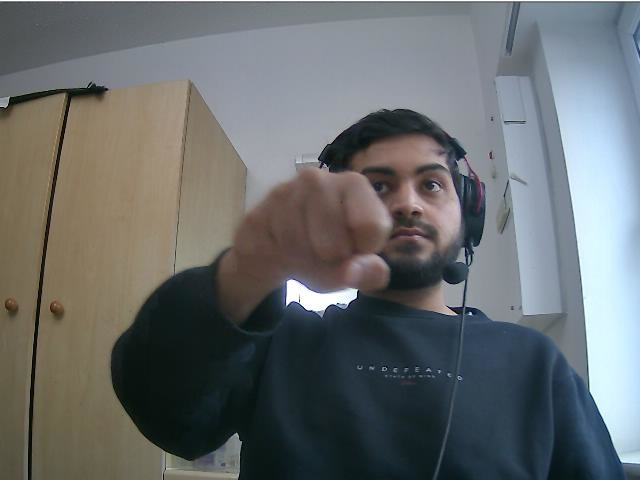hold: (234, 167, 394, 295)
